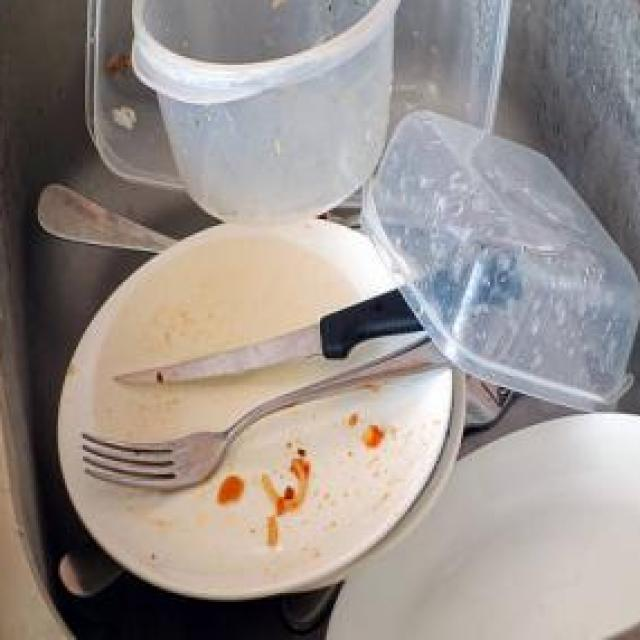knife: (110, 251, 524, 386)
